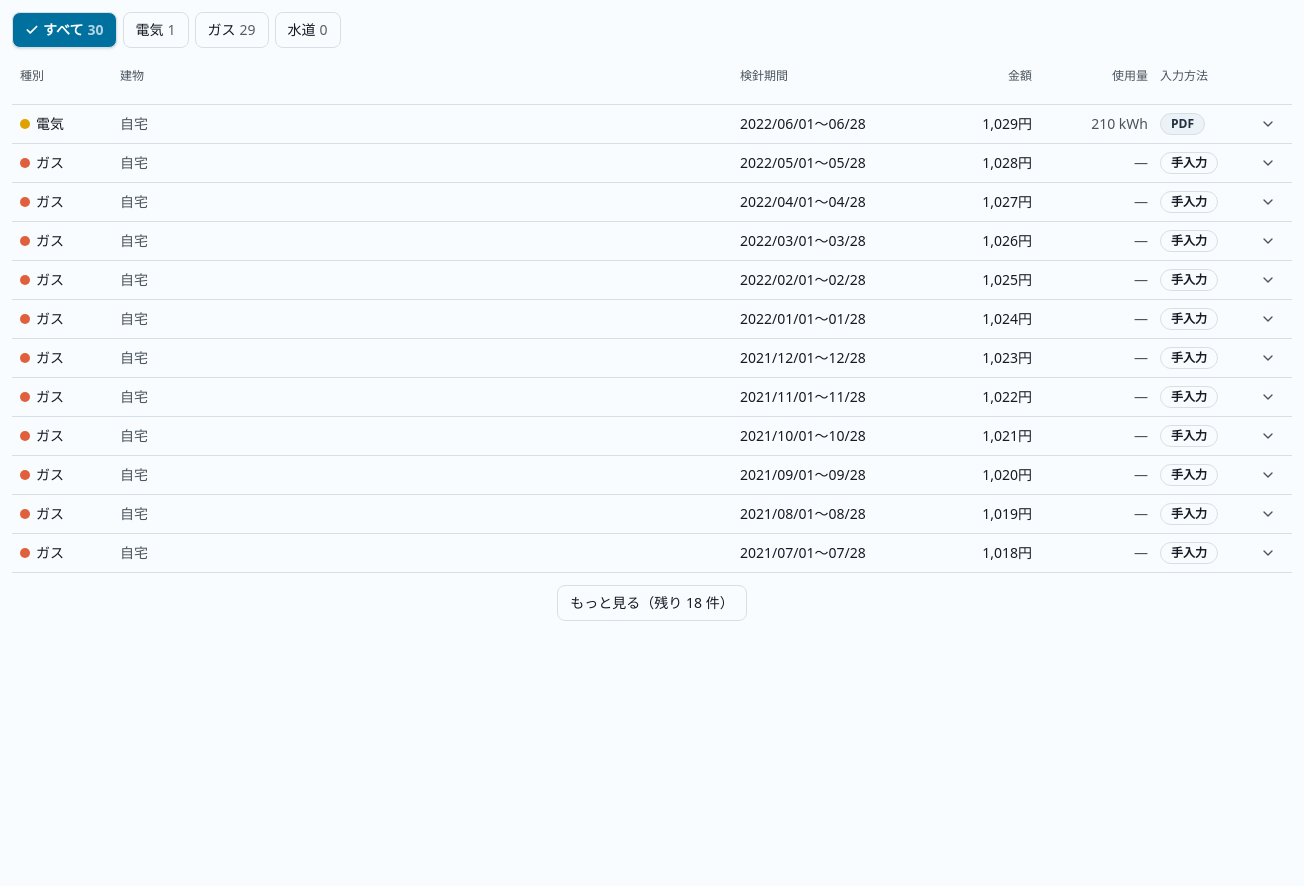
RecordList › lists the newest first, shows usage with its unit and pages the rest behind もっと見る
Expected: the button named " を編集" shows "210 kWh", x1=12 y1=105 x2=1292 y2=143
Expected: the button named " を編集" shows "PDF", x1=12 y1=105 x2=1292 y2=143
Click the button "もっと見る（残り 18 件）": point(652, 603) x1=557 y1=585 x2=747 y2=621
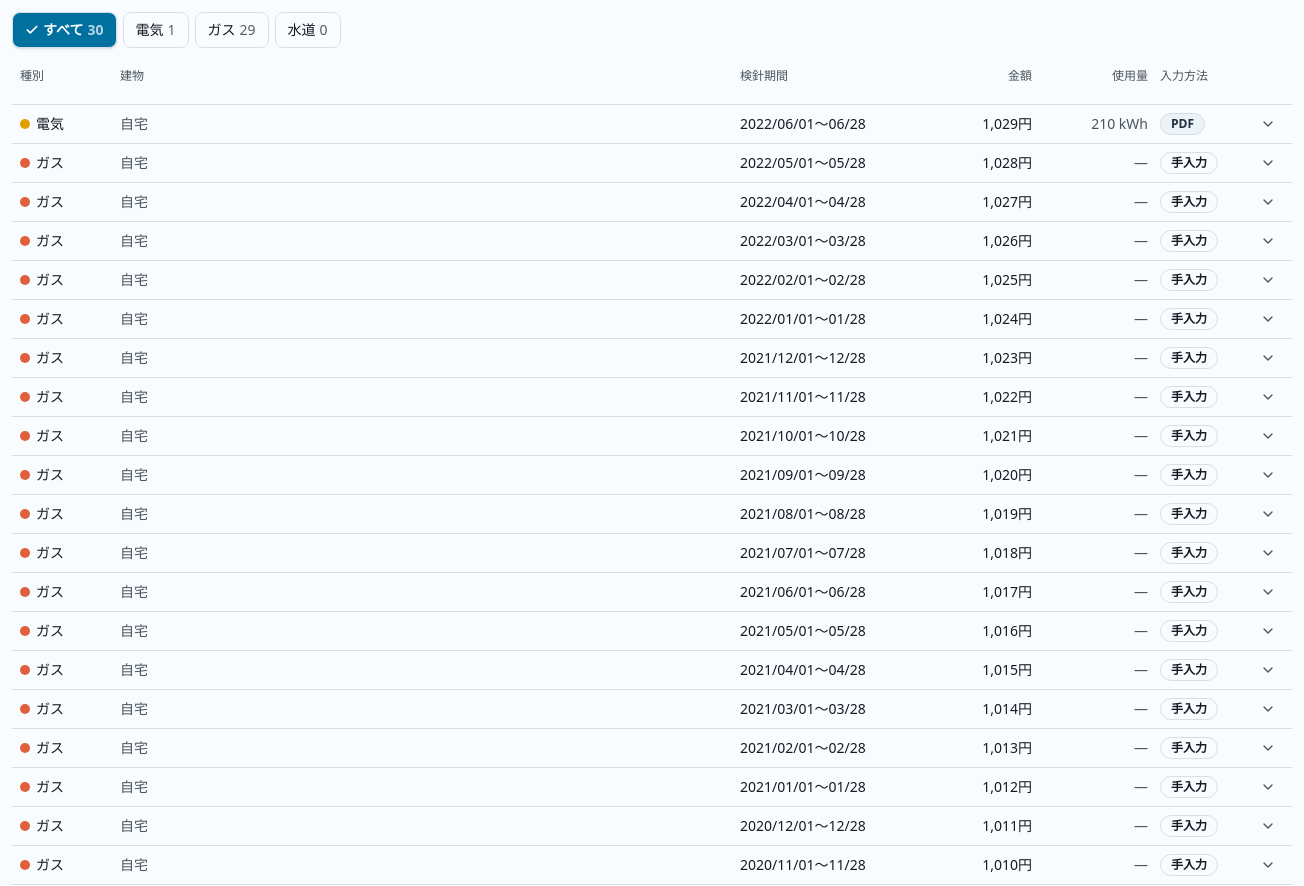
Expected: the button "もっと見る" is gone
